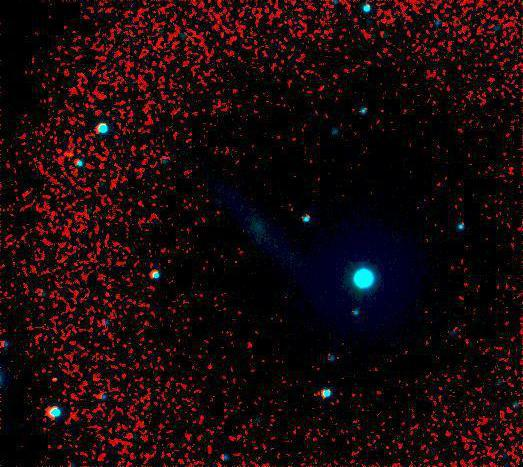star: (41, 366, 71, 396)
